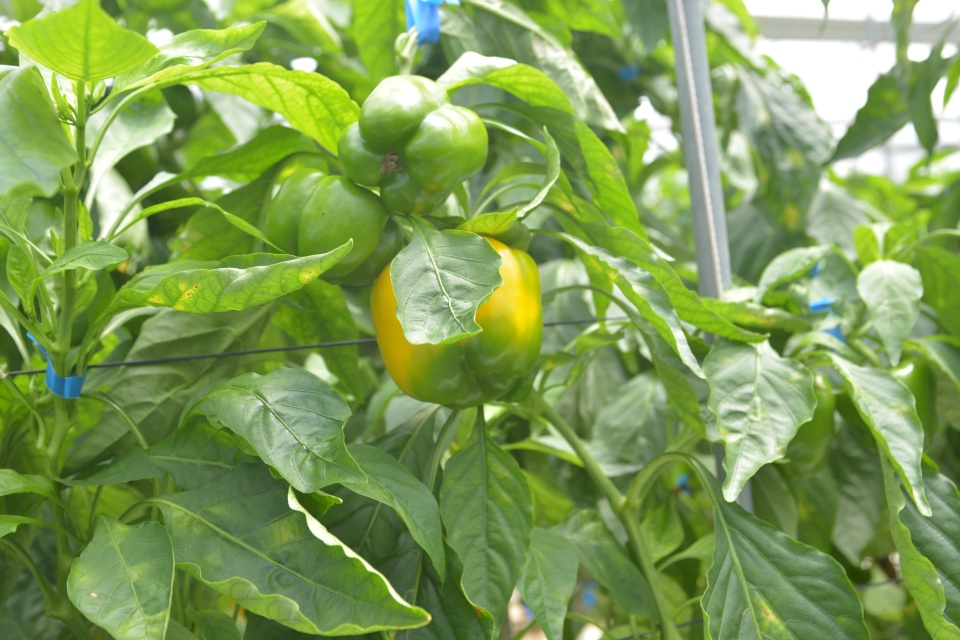fruit: (366, 234, 547, 411), (335, 72, 490, 218), (261, 165, 403, 290)
